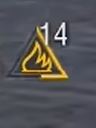1fire: (5, 50, 71, 81)
